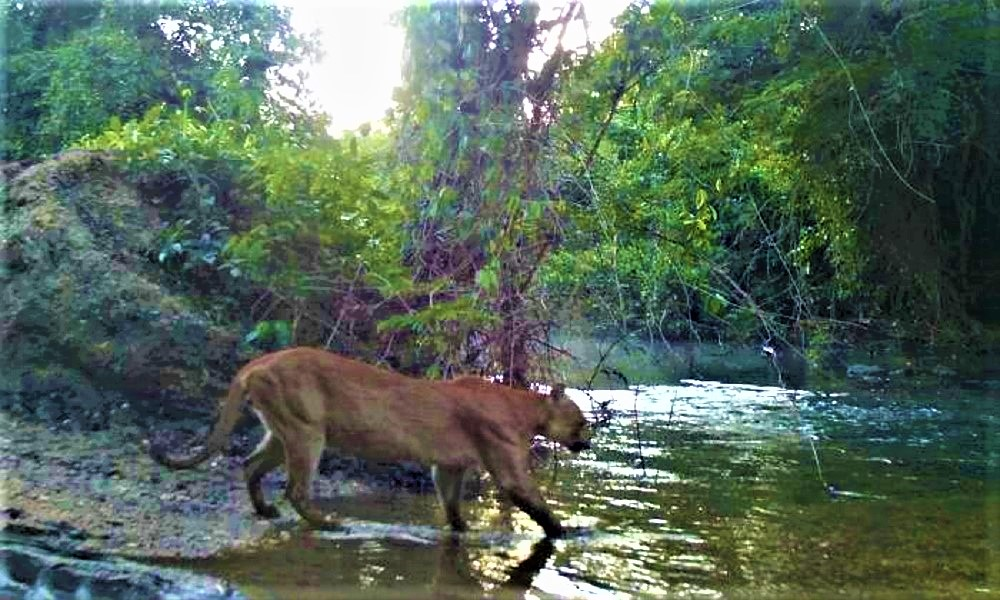OncaParda: (137, 340, 599, 550)
